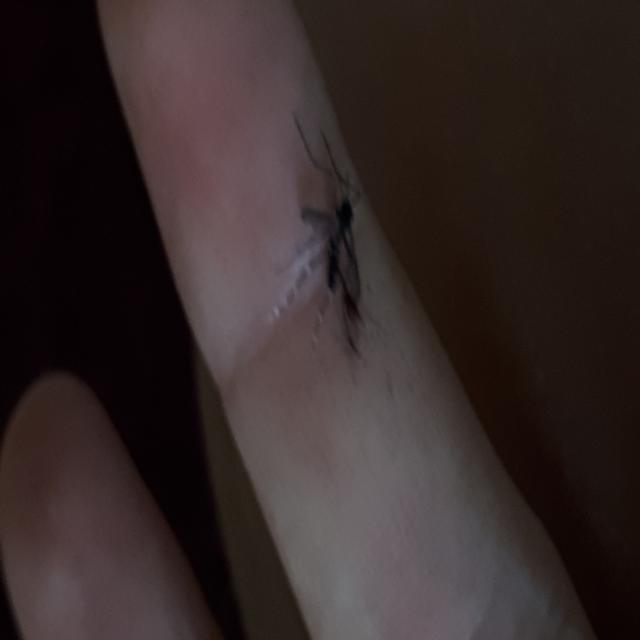albopictus: (283, 106, 375, 364)
